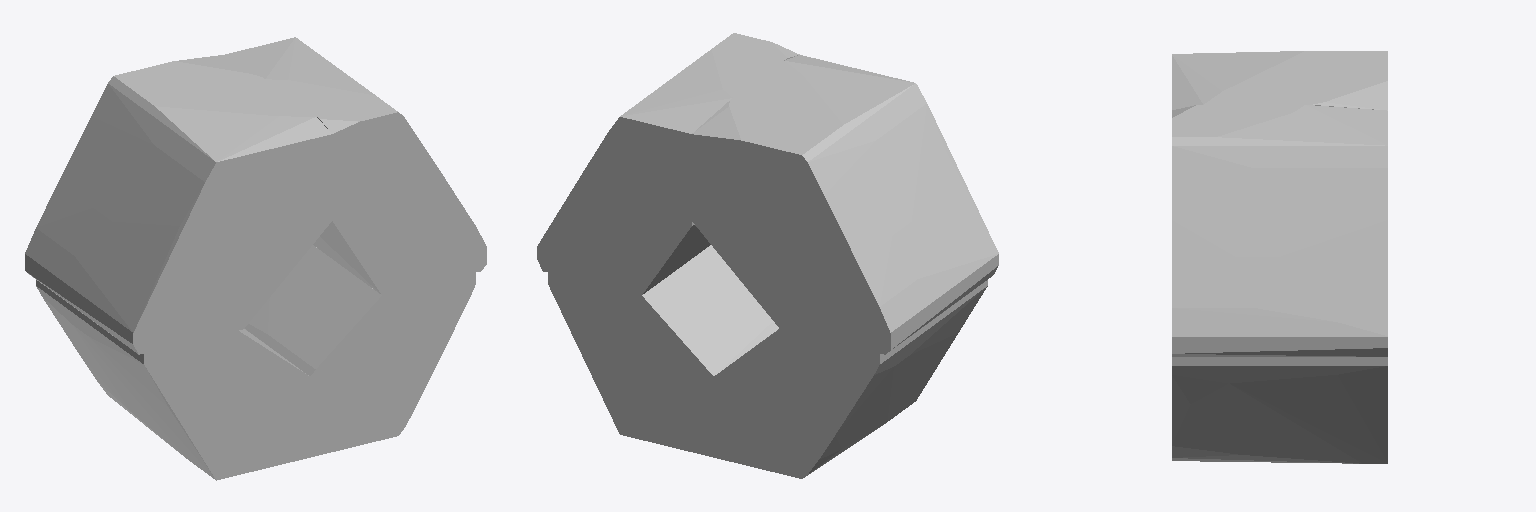
The model's file is Nut_decimated.obj.
3 renders of one model, left to right at view 1: azimuth 30°, elevation 25°; view 2: azimuth 150°, elevation 25°; view 3: azimuth 270°, elevation 25°, orthographic.
Parts seen in each view (by area): view 1: convex_2, convex_3, convex_1, convex_0; view 2: convex_2, convex_3, convex_1, convex_0; view 3: convex_3, convex_1, convex_2.
Boxes of the visible parts, box(x1,y1,x2,y2) form: convex_2: box(25, 55, 331, 354); convex_3: box(225, 37, 486, 294); convex_1: box(245, 245, 475, 457); convex_0: box(36, 280, 309, 480); convex_2: box(692, 55, 998, 354); convex_3: box(537, 33, 799, 294); convex_1: box(548, 245, 778, 457); convex_0: box(714, 280, 987, 478); convex_3: box(1172, 105, 1387, 356); convex_1: box(1172, 357, 1387, 463); convex_2: box(1172, 51, 1387, 110).
Bounding box in the file's own units: 36.46 × 31.9 × 19.37.